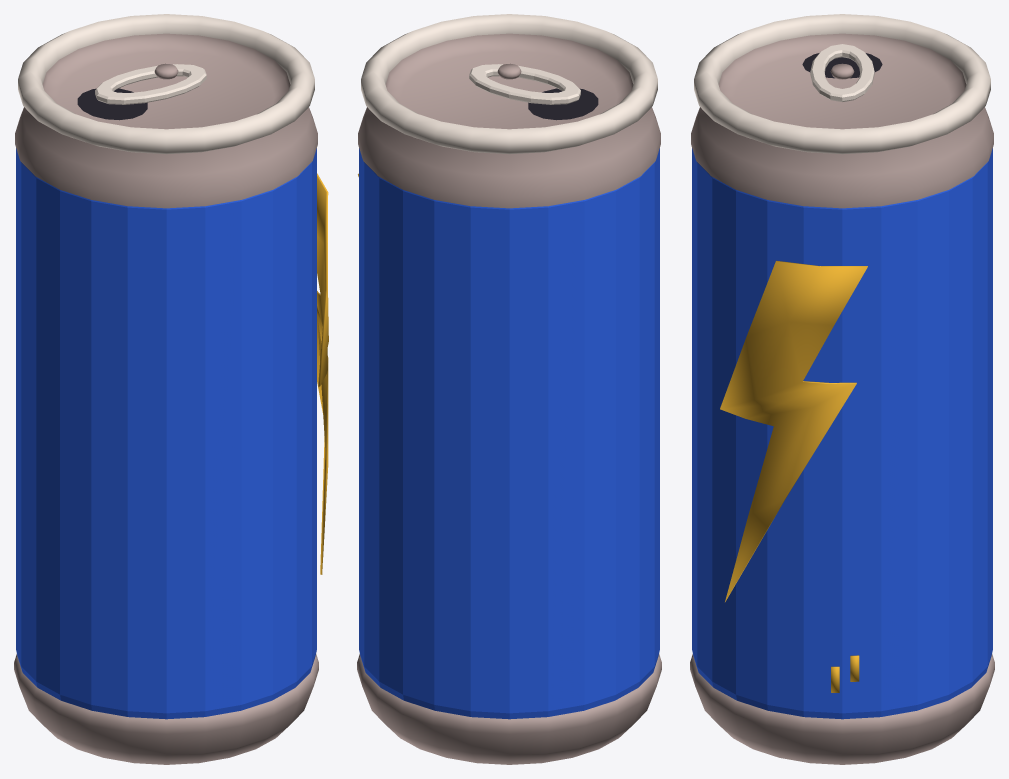
The picture shows the model from 3 angles, left to right: view 1: azimuth 30°, elevation 25°; view 2: azimuth 150°, elevation 25°; view 3: azimuth 270°, elevation 25°; orthographic projection.
Visible parts, largest first — view 1: body_pal_policeBlue, body_pal_sidewalk, body_pal_picketWhite, body_pal_schoolBusYellow, body_pal_uiDark; view 2: body_pal_policeBlue, body_pal_sidewalk, body_pal_picketWhite, body_pal_uiDark; view 3: body_pal_policeBlue, body_pal_sidewalk, body_pal_schoolBusYellow, body_pal_picketWhite, body_pal_uiDark.
Part boxes in pixels (bbox=[...]): body_pal_policeBlue: bbox=[16, 148, 316, 719]; body_pal_sidewalk: bbox=[14, 33, 318, 764]; body_pal_picketWhite: bbox=[18, 14, 314, 154]; body_pal_schoolBusYellow: bbox=[317, 173, 328, 574]; body_pal_uiDark: bbox=[77, 88, 147, 120]; body_pal_policeBlue: bbox=[359, 148, 659, 719]; body_pal_sidewalk: bbox=[357, 33, 661, 764]; body_pal_picketWhite: bbox=[361, 14, 657, 154]; body_pal_uiDark: bbox=[528, 88, 598, 120]; body_pal_policeBlue: bbox=[692, 148, 992, 719]; body_pal_sidewalk: bbox=[690, 33, 994, 764]; body_pal_schoolBusYellow: bbox=[720, 260, 867, 692]; body_pal_picketWhite: bbox=[694, 14, 990, 154]; body_pal_uiDark: bbox=[802, 53, 882, 78].
Size of the model in its own units: 0.157 by 0.354 by 0.152.
